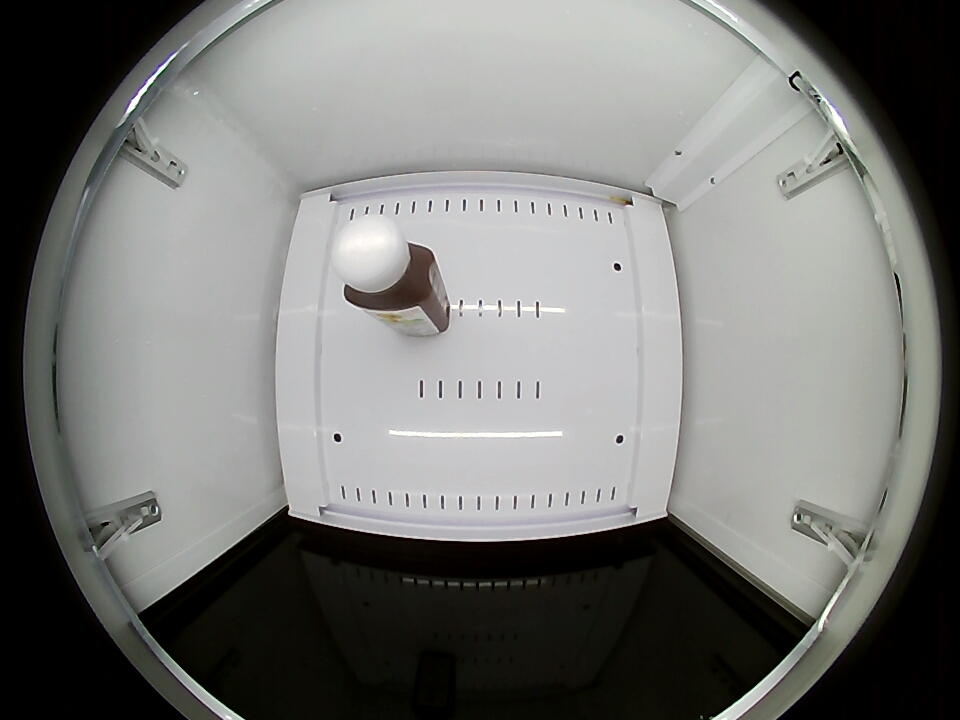youyanggudong: (333, 217, 437, 315)
